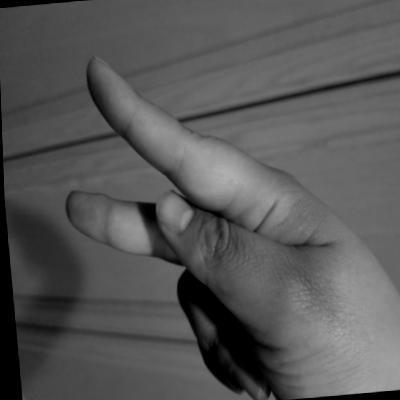hand: (44, 23, 399, 399)
